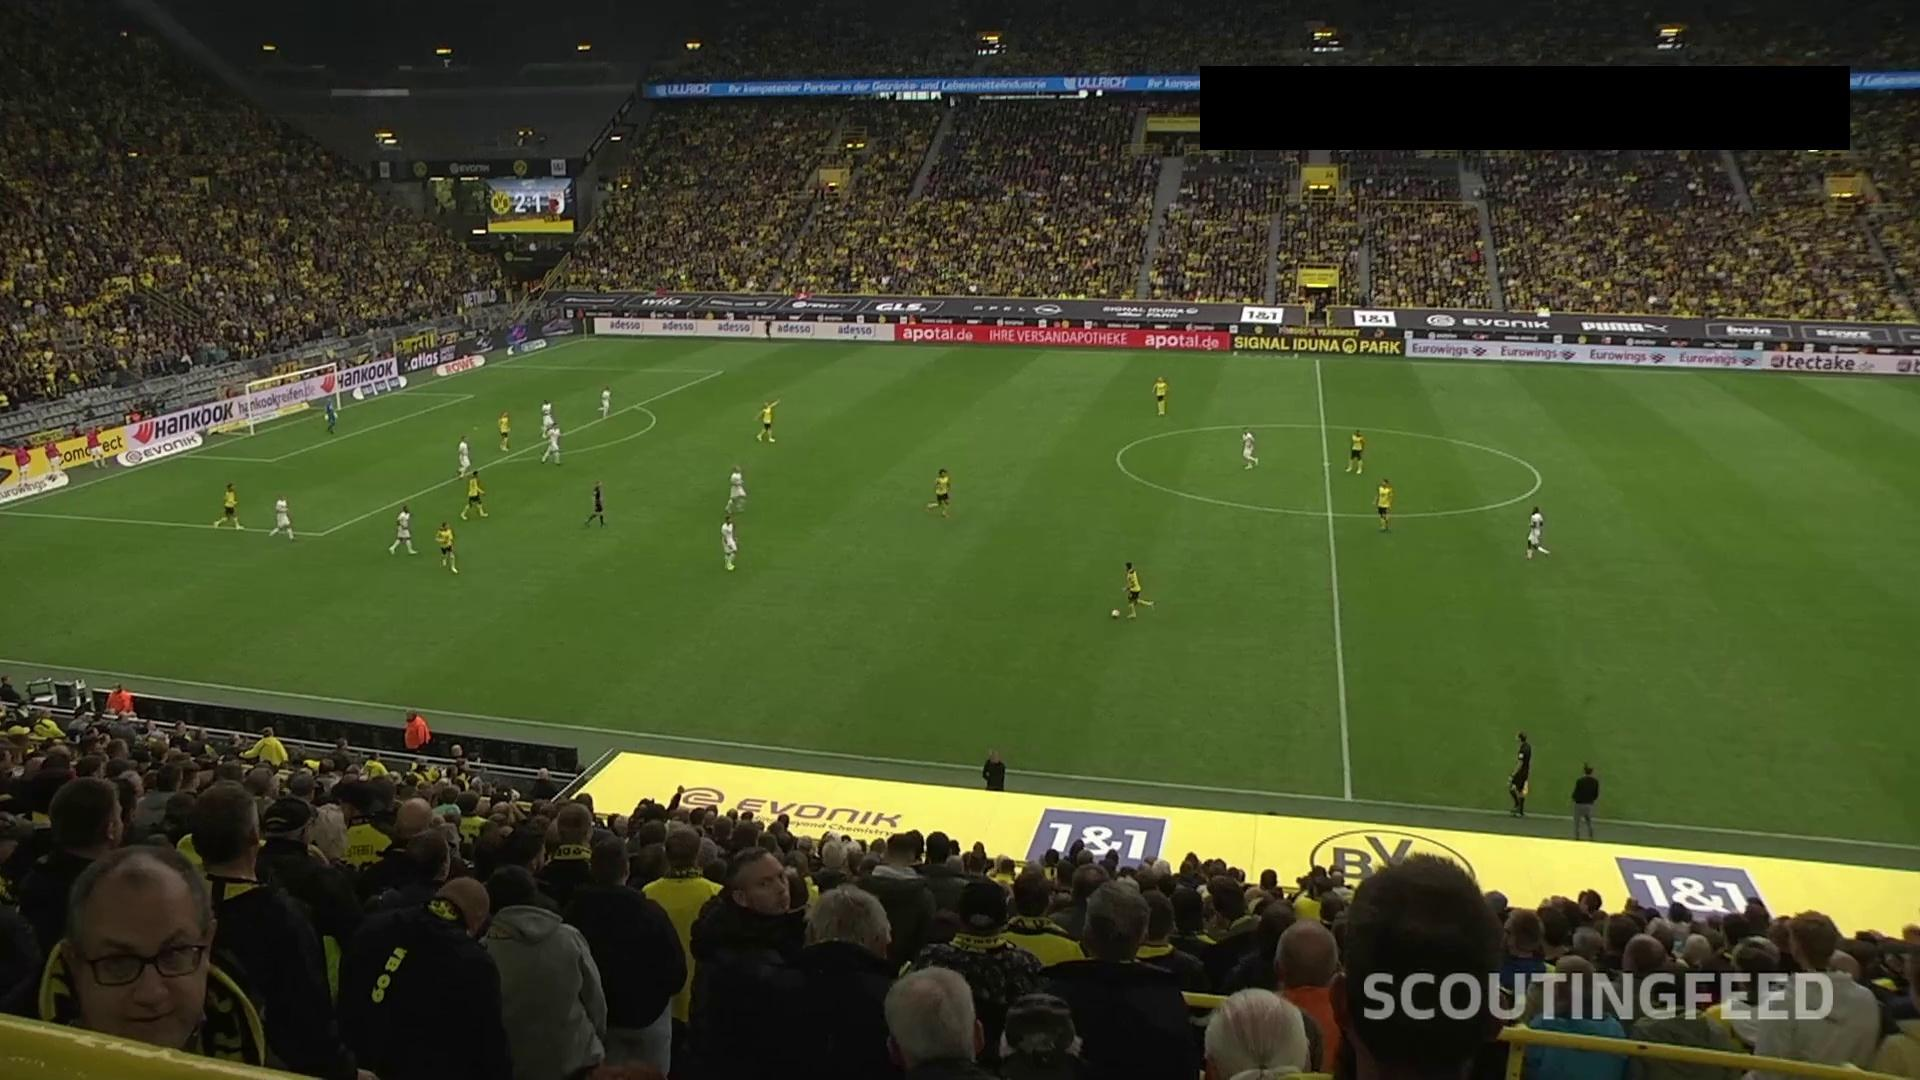Location-of-ball: (1101, 604, 1130, 628)
